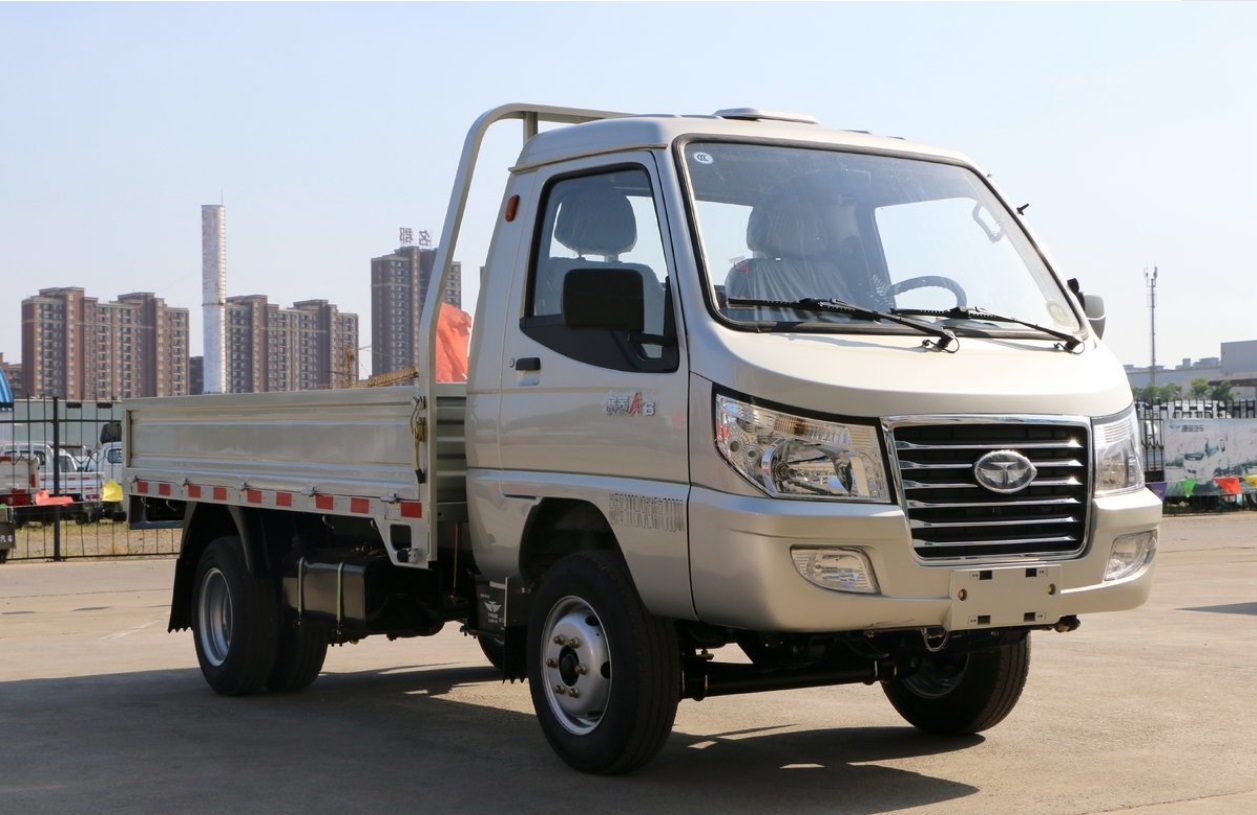truck: (112, 92, 1167, 765)
